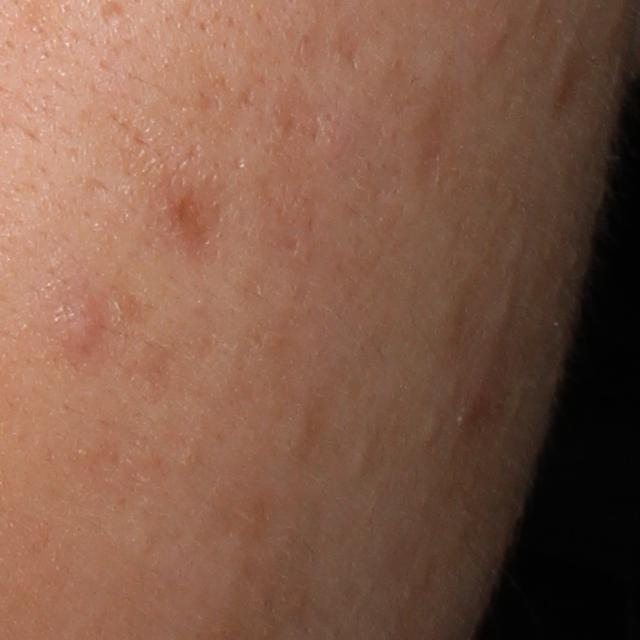atrophic_scar: (166, 158, 223, 286), (271, 79, 338, 166)
comedo: (354, 444, 379, 473)
papule: (54, 290, 106, 362)
